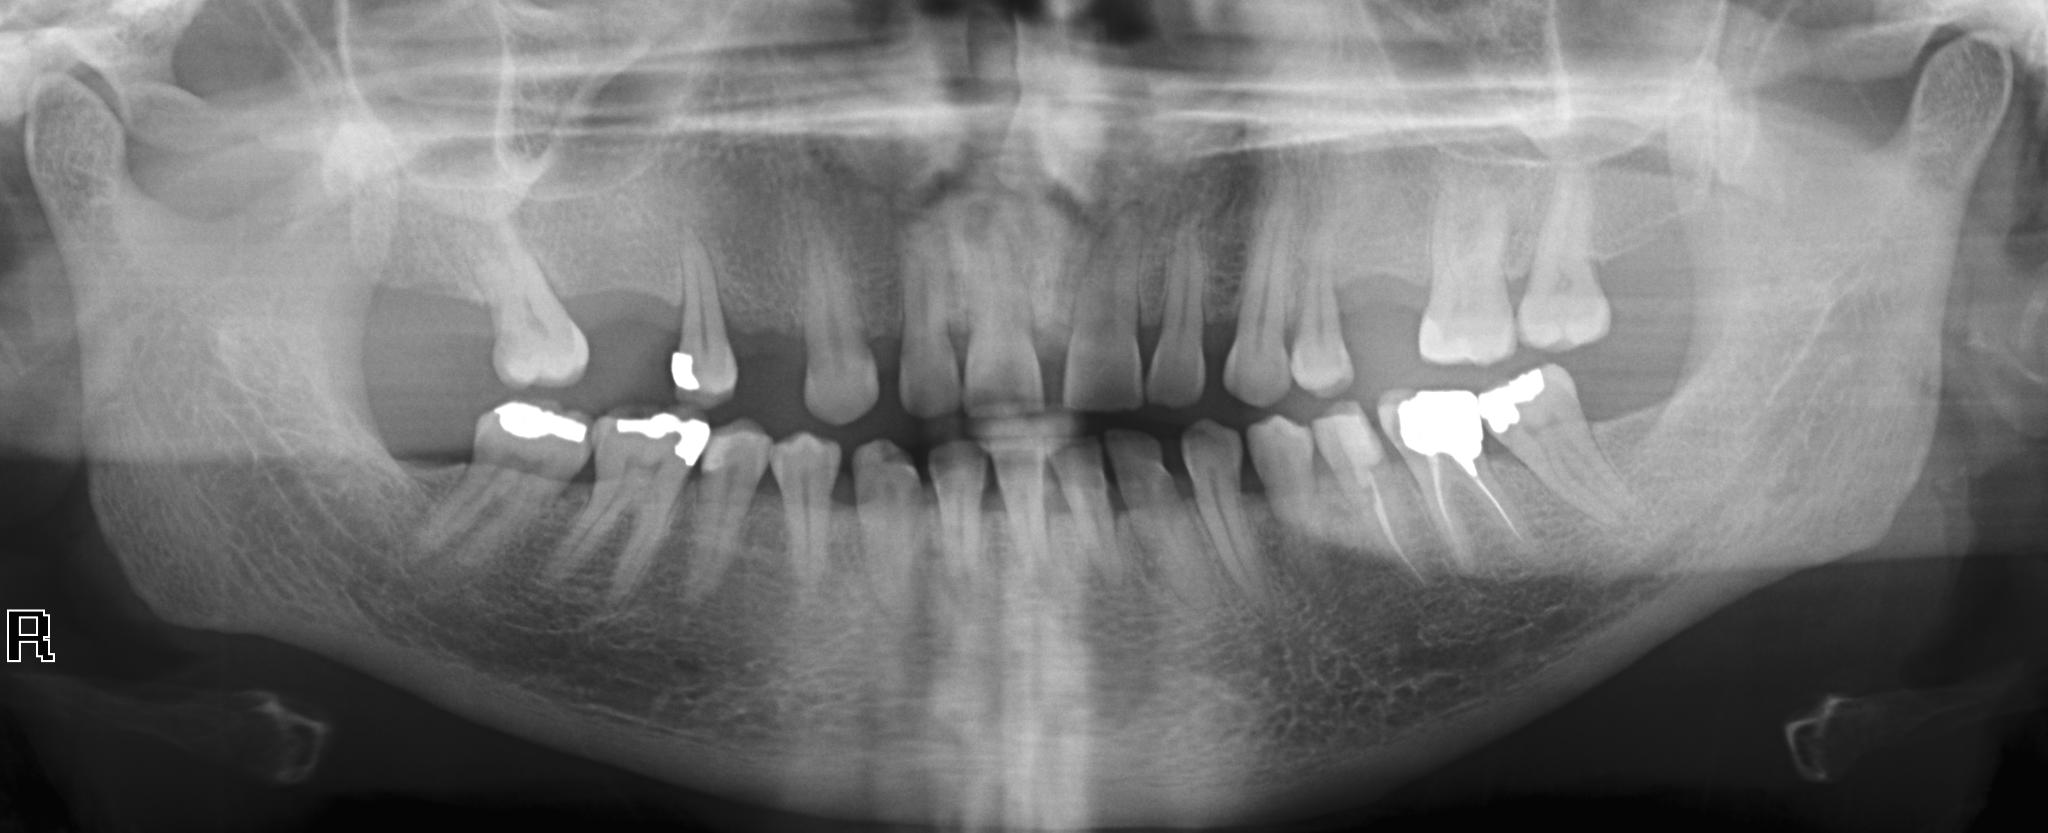Cavity: (1053, 240, 1142, 411), (1144, 232, 1209, 406)
Fillings: (552, 407, 709, 590), (670, 251, 734, 400)
Implant: (1373, 377, 1531, 573)
